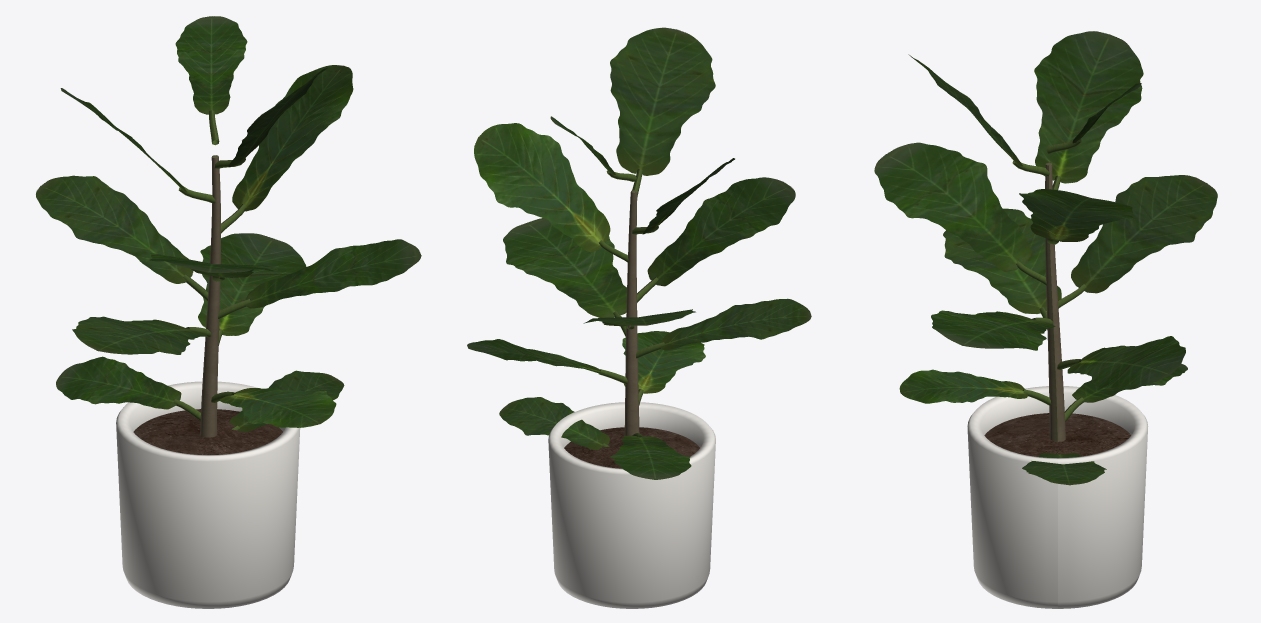
File: ficus_lyrata_60.glb
3 views of the same model, side by side, from view 1: azimuth 30°, elevation 25°; view 2: azimuth 150°, elevation 25°; view 3: azimuth 270°, elevation 25° (orthographic). The views are drawn at different scales.
Visible parts, largest first — view 1: ficus_lyrata_60; view 2: ficus_lyrata_60; view 3: ficus_lyrata_60.
Part boxes in pixels (x1,y1,x2,y2): ficus_lyrata_60: (36,16,421,608); ficus_lyrata_60: (467,27,811,608); ficus_lyrata_60: (874,31,1217,608).
Size of the model in its own units: 0.42 by 0.6 by 0.4.
Materials: 3 (2 with a texture image).
